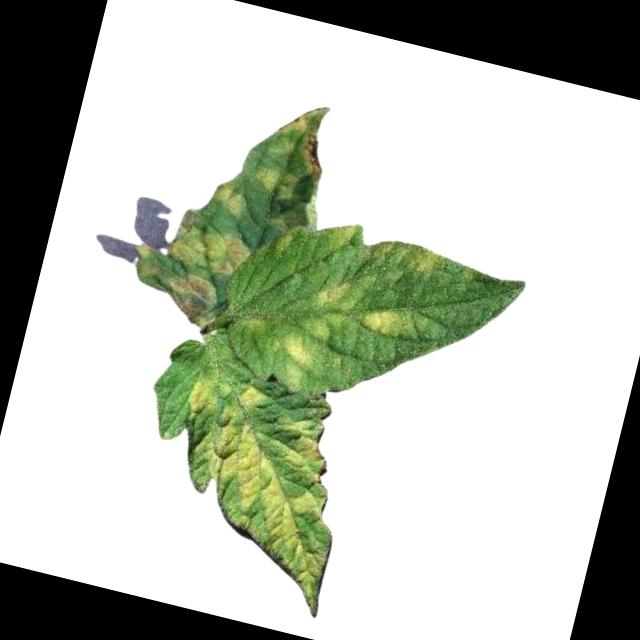Leaf_Mold: (147, 371, 366, 617), (163, 204, 258, 282), (263, 93, 338, 178), (157, 268, 220, 329), (268, 332, 317, 394), (303, 268, 360, 317), (318, 216, 361, 260), (251, 163, 298, 203), (296, 307, 344, 345), (361, 302, 406, 339), (209, 176, 248, 216), (410, 246, 438, 277)
